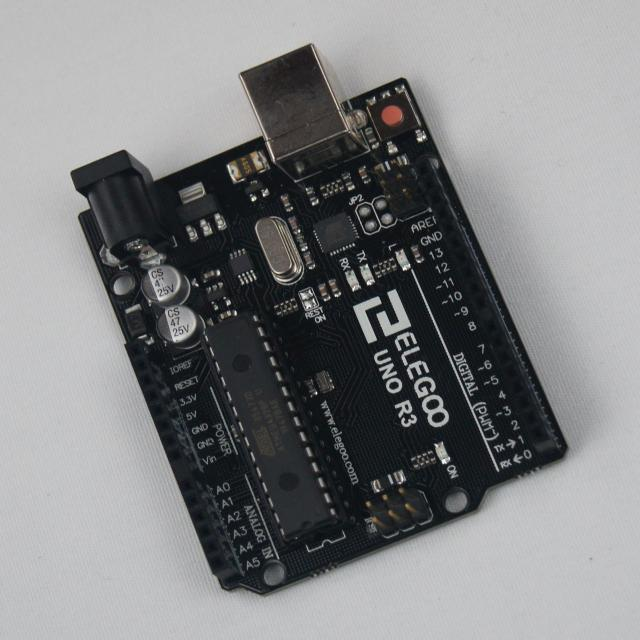Arduino Uno -Black-: (73, 46, 567, 595)
